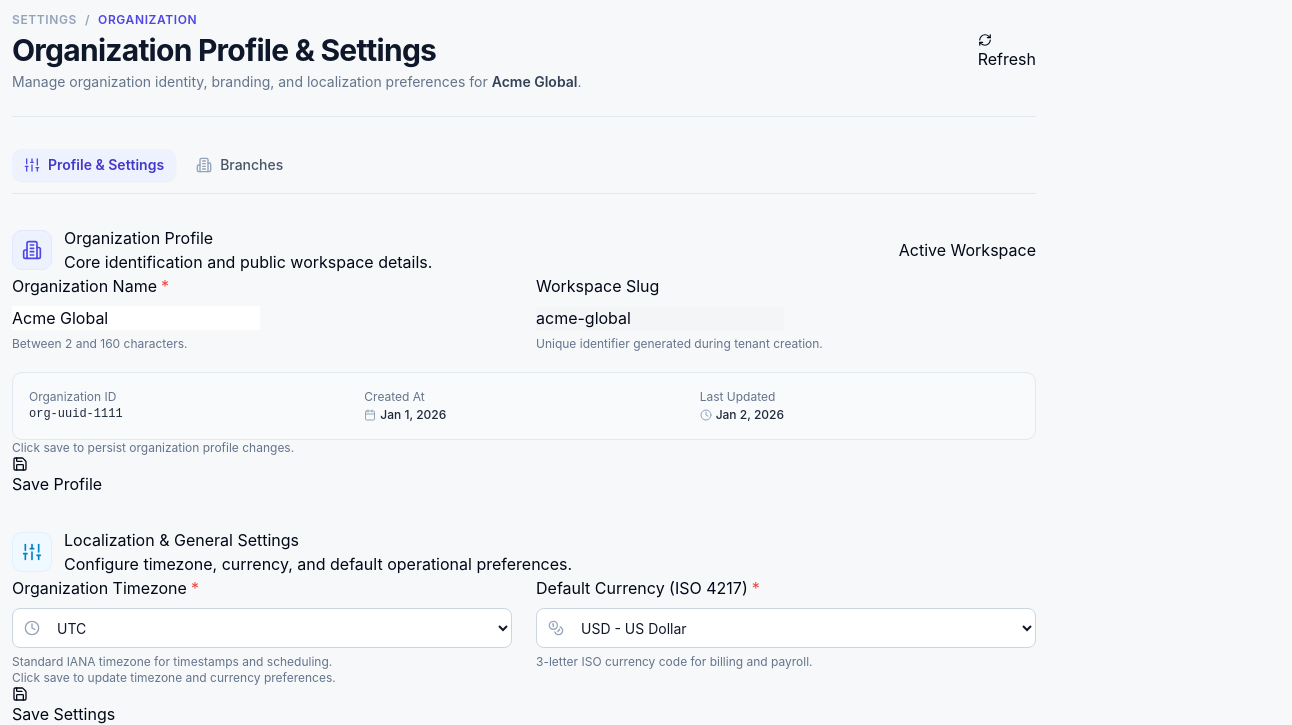
Scenario: OrganizationSettingsPage Component › updates organization profile successfully on submit
The image size is (1292, 725).
Replace the text in the field labelled "Organization Name*" with "Acme Global International" at (136, 318), box [12,306,260,330]
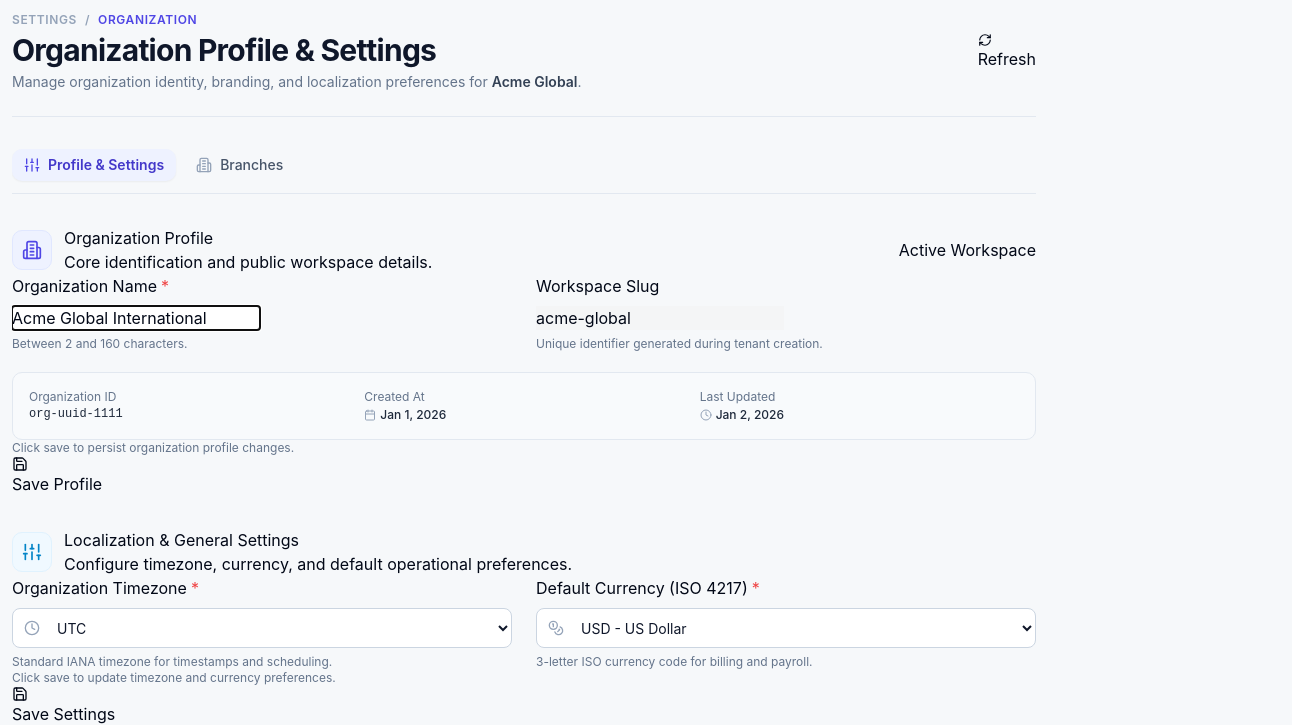
Click the button "Save Profile".
click(57, 476)  # box [12,456,102,496]
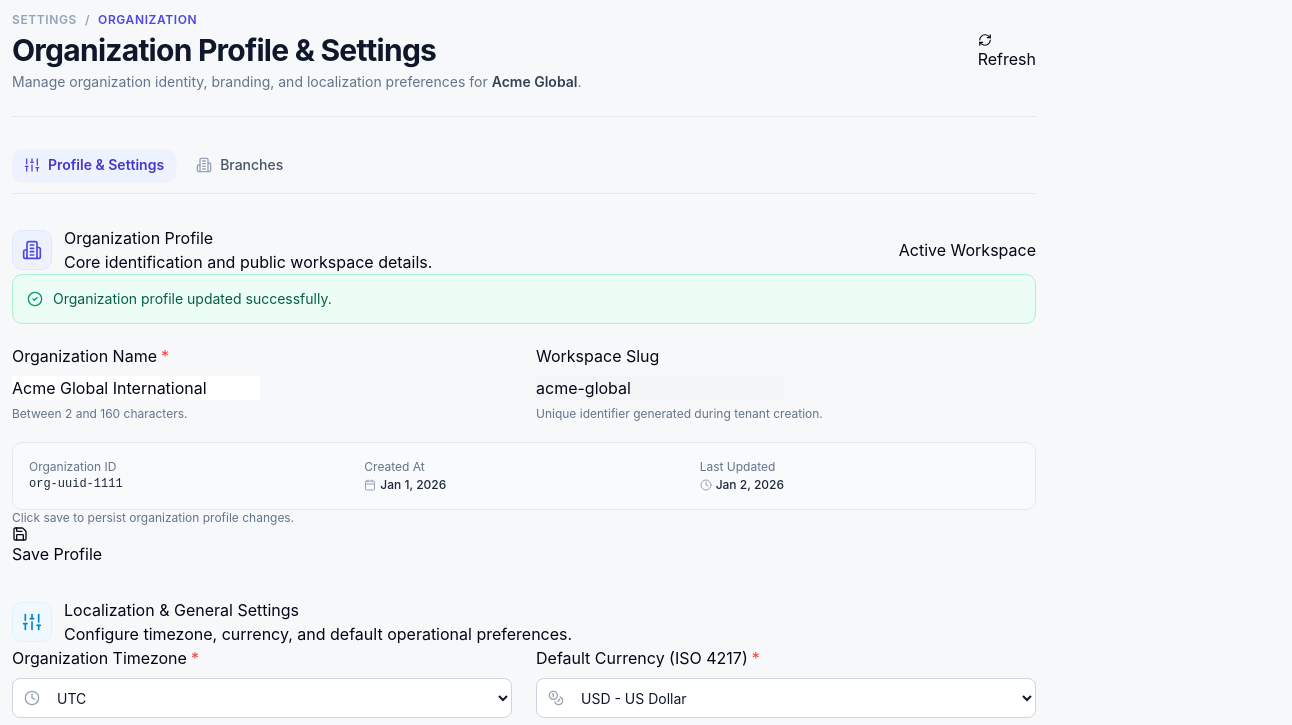
Expected: the text "org-uuid-1111" is shown, [29,477,123,491]
Expected: the text "Organization profile updated successfully." is shown, [53,289,332,309]
